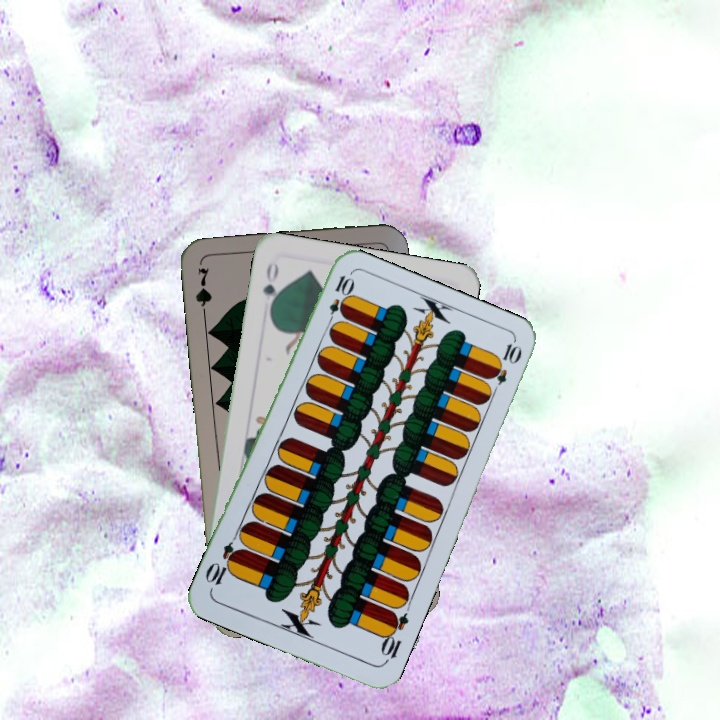E10: (376, 607, 411, 666), (323, 271, 355, 329)
G7: (191, 263, 214, 323)
GO: (258, 257, 282, 317)
